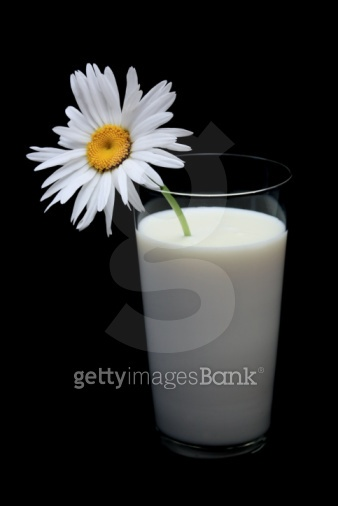glass of milk: (130, 163, 289, 456)
